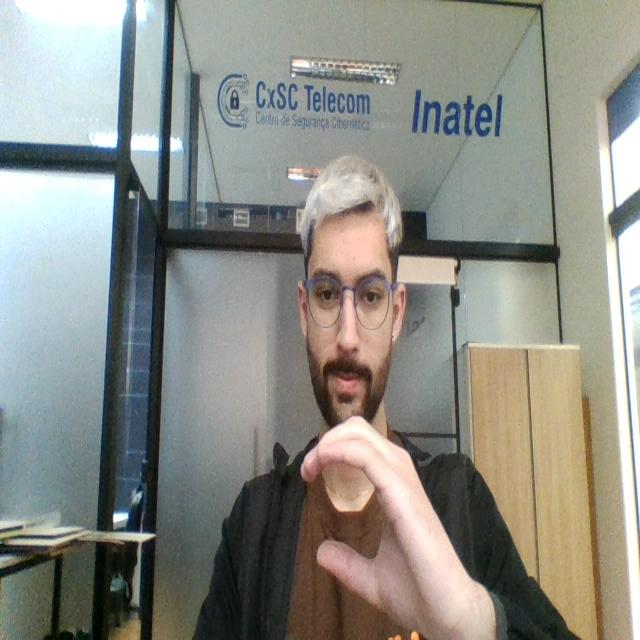C: (296, 416, 442, 629)
